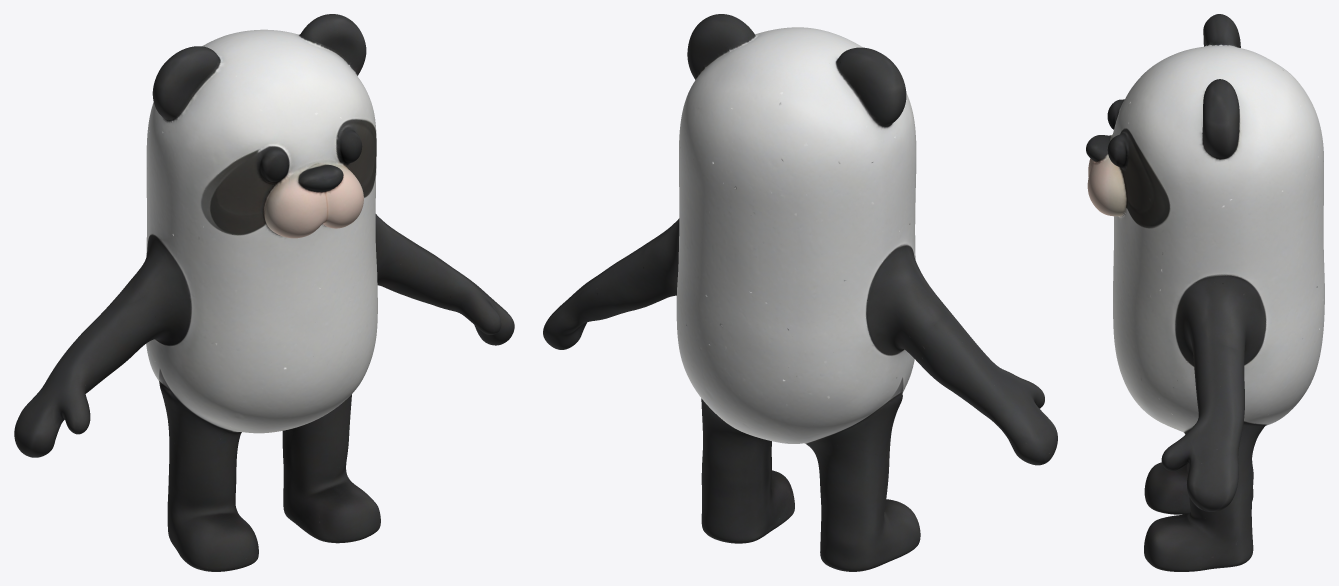
Rendered from Meshy_AI_Panda_Pal_0415091351_texture.fbx.
The picture shows the model from 3 angles, left to right: view 1: azimuth 30°, elevation 25°; view 2: azimuth 150°, elevation 25°; view 3: azimuth 270°, elevation 25°; orthographic projection. The views are drawn at different scales.
Visible parts, largest first — view 1: Mesh_0; view 2: Mesh_0; view 3: Mesh_0.
Boxes of the visible parts, <box> form: Mesh_0: <box>14,14,514,571</box>; Mesh_0: <box>543,14,1057,571</box>; Mesh_0: <box>1086,14,1324,571</box>.
Bounding box in the file's own units: 200 × 194 × 87.37.
1 material, 1 textured.
